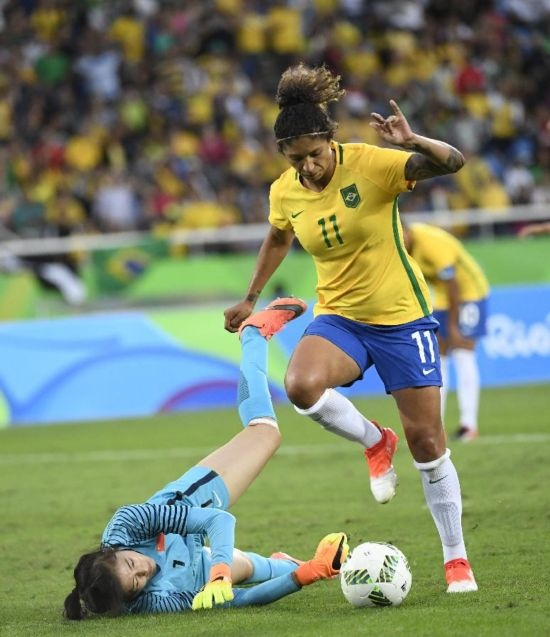falling: (46, 283, 341, 628)
